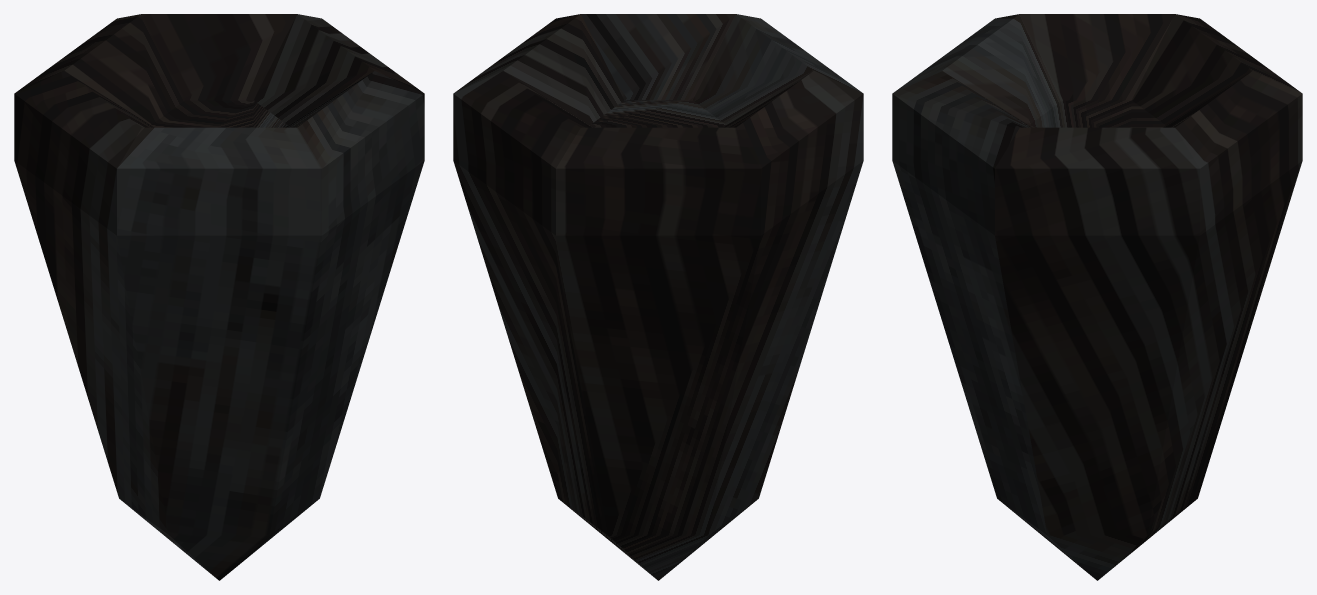
File: ennemi_body_v1.fbx
3 renders of one model, left to right at view 1: azimuth 30°, elevation 25°; view 2: azimuth 150°, elevation 25°; view 3: azimuth 270°, elevation 25°, orthographic.
Visible parts, largest first — view 1: Cylinder; view 2: Cylinder; view 3: Cylinder.
Part boxes in pixels (x1,y1,x2,y2): Cylinder: (14,14,424,580); Cylinder: (453,14,863,580); Cylinder: (892,14,1302,580).
Bounding box in the file's own units: 173 × 200 × 274.
